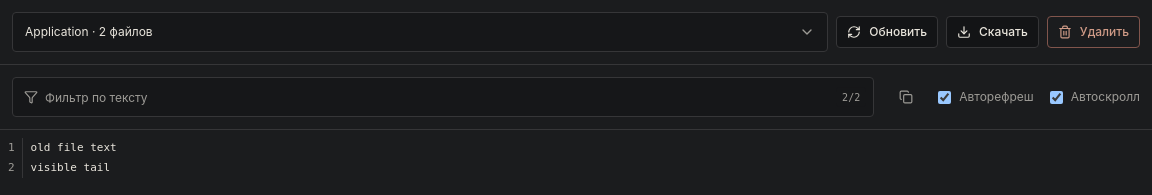
copies the latest full file even when the viewer is filtered
expect the text "visible tail" is shown: met, box [31, 158, 110, 178]
Step 1. Type "visible" into the field labelled "Фильтр по тексту" → (443, 97), box [12, 77, 874, 117]
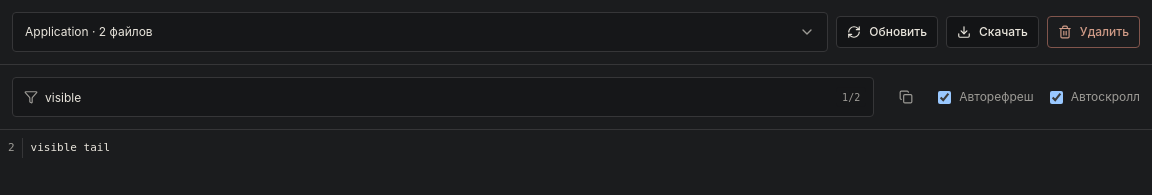
Step 2. Click the button named "Копировать последний файл лога" → (906, 97), box [890, 81, 922, 113]
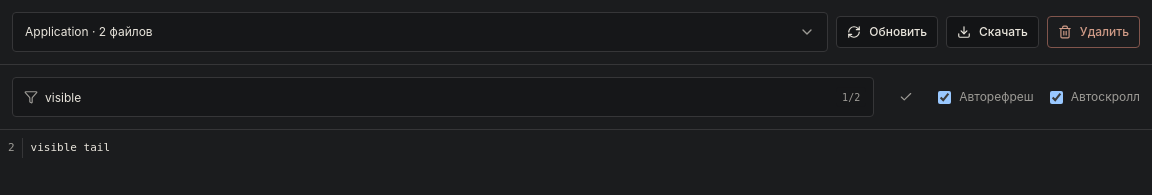
expect the button named "Последний файл скопирован" is shown: met, box [890, 81, 922, 113]
